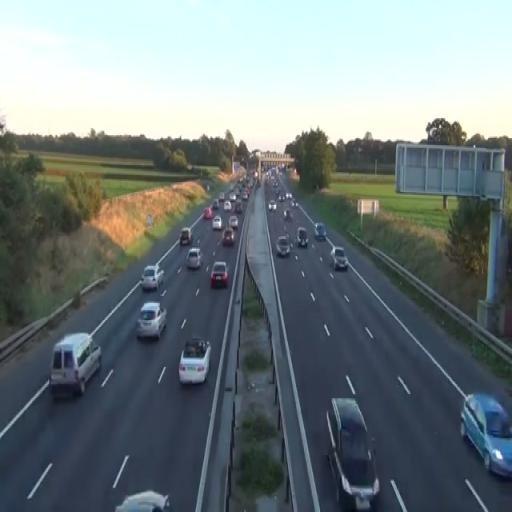Car: (326, 397, 380, 509), (460, 392, 512, 480), (49, 331, 102, 400), (178, 336, 212, 386), (135, 302, 167, 342), (141, 265, 164, 290), (210, 261, 230, 288), (330, 247, 348, 271), (186, 248, 204, 270), (276, 236, 290, 258), (212, 216, 222, 230)
Truck: (49, 331, 102, 400)
